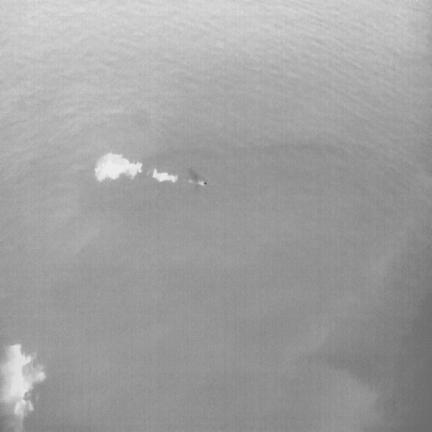flukeprints: (0, 344, 45, 422), (94, 153, 142, 181), (153, 169, 178, 182)
